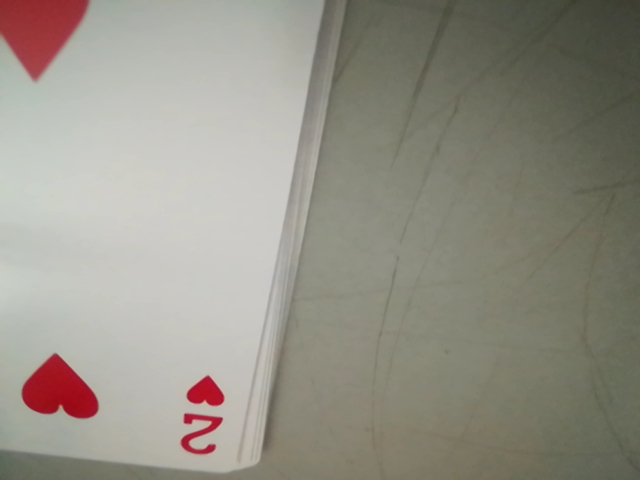hx 2: (173, 393, 237, 464)
